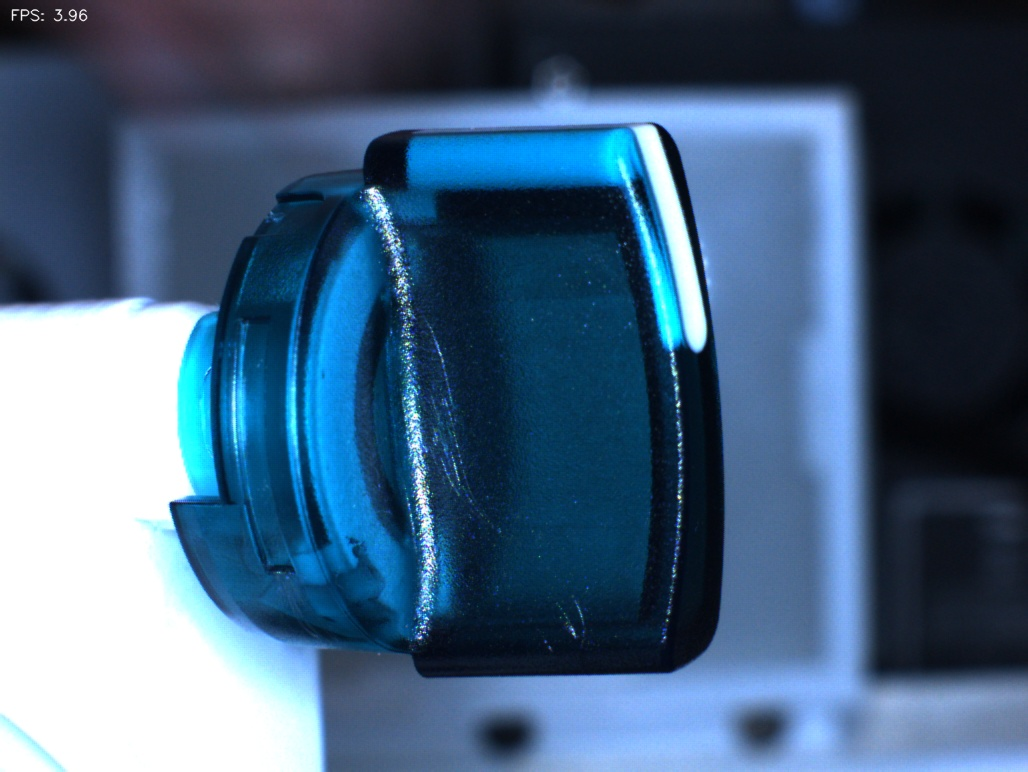Givrage: (386, 300, 488, 509)
